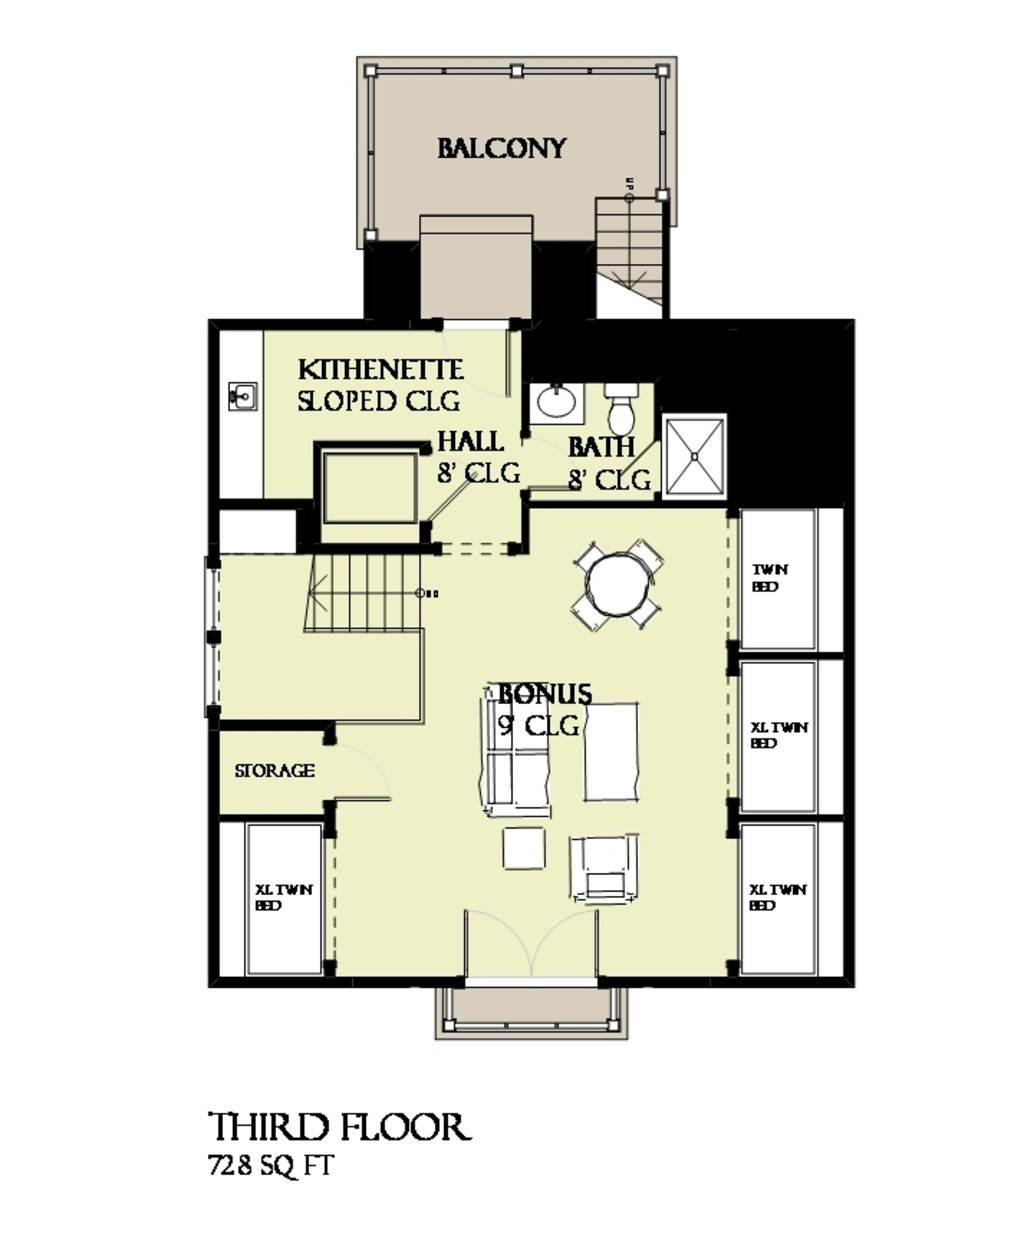door: (461, 907, 602, 987)
large_sink: (594, 374, 641, 438)
round_table: (565, 536, 665, 633)
small_sink: (524, 383, 587, 427)
small_sofa: (564, 827, 645, 913)
stairs: (299, 552, 439, 640), (597, 174, 664, 320)
windows: (202, 561, 219, 709)
